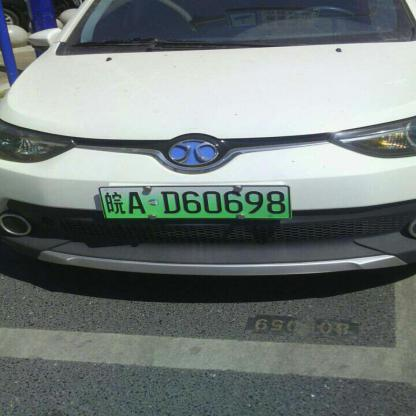lp: (99, 187, 290, 220)
